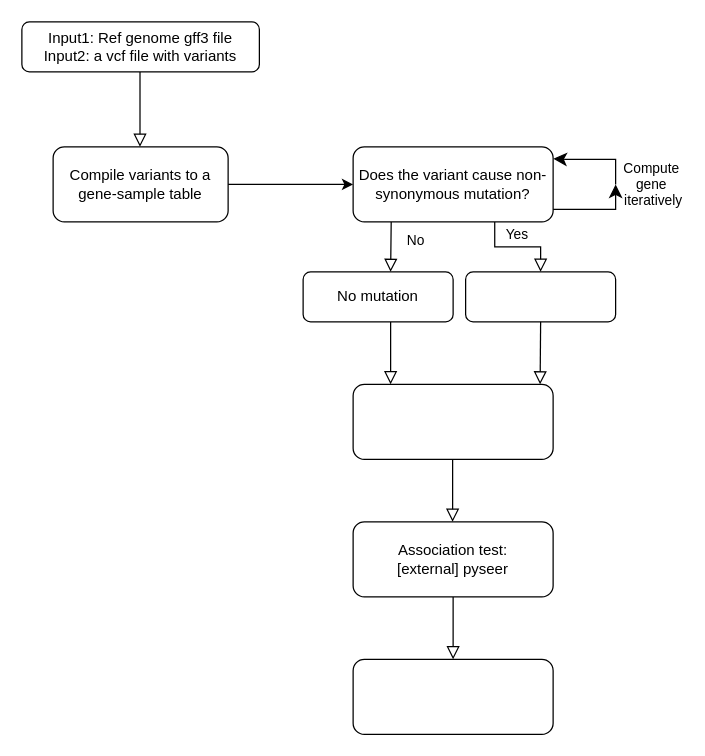
This 705x756 diagram has some shape labels left out. The shapes that lost their labels are listed below. From the top down, each one's box as (x1, y1, x2, y2) in pixels, then its label:
(464, 271, 616, 322): Mutated
(352, 383, 553, 459): Compile result into a summary table Mutated/unmutated table
(352, 658, 553, 734): Graph significant results
